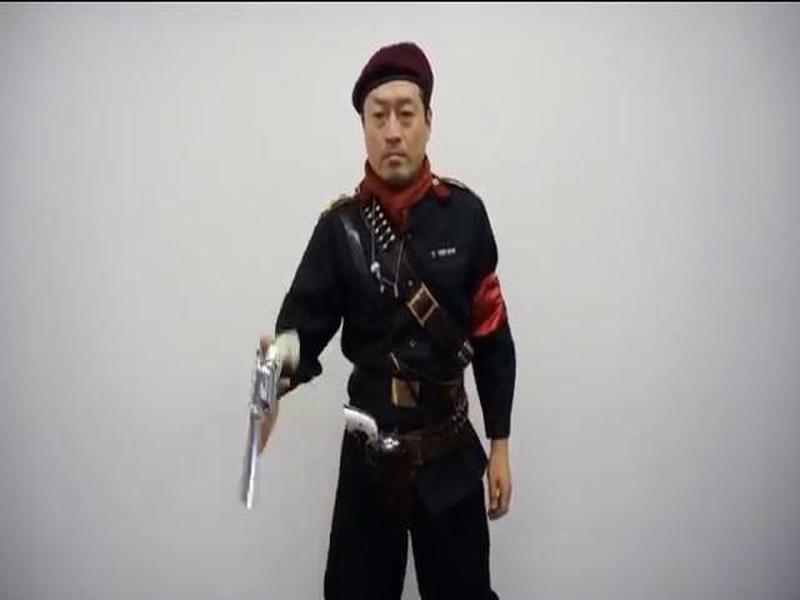Revolver: (235, 328, 309, 517)
